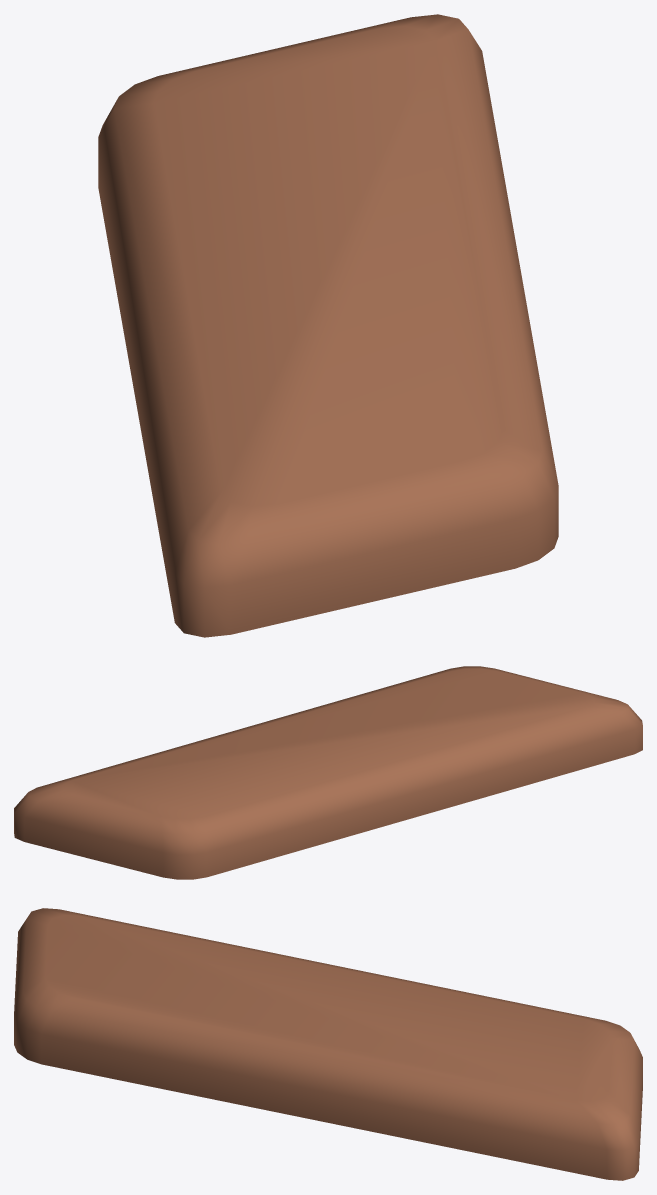
The model's file is Floor (path2).fbx.
The picture shows the model from 3 angles, top to bottom: view 1: azimuth 30°, elevation 25°; view 2: azimuth 150°, elevation 25°; view 3: azimuth 270°, elevation 25°; orthographic projection. The views are drawn at different scales.
Visible parts, largest first — view 1: Floor (path2); view 2: Floor (path2); view 3: Floor (path2).
Part boxes in pixels (left/top/right/bottom): Floor (path2): left=98, top=14, right=558, bottom=637; Floor (path2): left=14, top=666, right=642, bottom=879; Floor (path2): left=14, top=908, right=642, bottom=1180.
Bounding box in the file's own units: 3623 × 427 × 4199.
